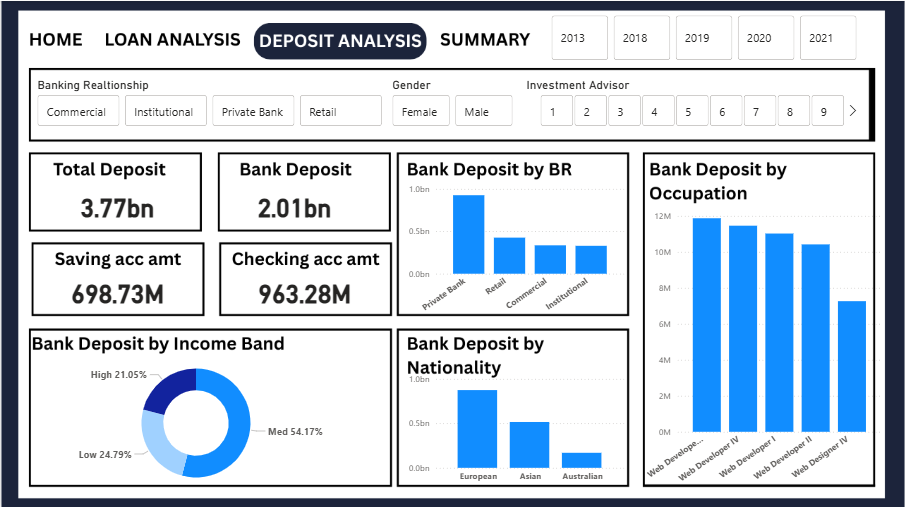

Layout of this report page (visuals, bound fields, positions):
{"tool":"powerbi","page":{"name":"Deposit Analysis","canvas":[1280,720],"ordinal":2},"visuals":[{"type":"advancedSlicerVisual","title":"Gender","fields":{"Values":["Banking_Clients.Year of joining"]},"box":[755.9,15.1,483.8,73.9],"z":0},{"type":"actionButton","box":[29.8,34,89.3,38.3],"z":1000},{"type":"actionButton","box":[133.2,34,211.2,38.3],"z":2000},{"type":"actionButton","box":[618,34,137.5,38.3],"z":3000},{"type":"card","fields":{"Values":["Sum(Banking_Clients.Bank Deposits)"]},"box":[344.4,262.2,143.1,55.3],"z":4000},{"type":"card","fields":{"Values":["Banking_Clients.Total deposit"]},"box":[93.5,262.2,143.1,55.3],"z":5000},{"type":"card","fields":{"Values":["Sum(Banking_Clients.Saving Accounts)"]},"box":[93.5,384.1,143.1,55.3],"z":6000},{"type":"card","fields":{"Values":["Sum(Banking_Clients.Checking Accounts)"]},"box":[358.6,384.1,143.1,55.3],"z":7000},{"type":"donutChart","fields":{"Category":["Banking_Clients.Income Band"],"Y":["Sum(Banking_Clients.Bank Deposits)"]},"box":[2.8,494.6,547.1,206.9],"z":8000},{"type":"columnChart","fields":{"Category":["Banking_Clients.BRId"],"Y":["Sum(Banking_Clients.Bank Deposits)"]},"box":[572.6,252.3,316.1,201.3],"z":9000},{"type":"columnChart","fields":{"Category":["Banking_Clients.Nationality"],"Y":["Sum(Banking_Clients.Bank Deposits)"]},"box":[572.6,521.6,316.1,170.1],"z":10000},{"type":"columnChart","fields":{"Category":["Banking_Clients.Occupation"],"Y":["Sum(Banking_Clients.Bank Deposits)"]},"box":[909.9,290.6,343,411],"z":11000},{"type":"advancedSlicerVisual","title":"Banking Realtionship","fields":{"Values":["Banking_Clients.BRId"]},"box":[46.8,109.1,498.9,73.7],"z":12000},{"type":"advancedSlicerVisual","title":"Gender","fields":{"Values":["Banking_Clients.GenderId"]},"box":[549.9,109.1,181.4,73.7],"z":13000},{"type":"advancedSlicerVisual","fields":{"Values":["Banking_Clients.IAId"]},"box":[739.8,109.1,483.3,73.7],"z":14000}]}

Visuals, with their boxes in screenshot pixels (x1, y1, x2, y2), scaled from the page's 1280x720 canvas onto the 905x507 screenshot:
"Gender" advancedSlicerVisual: left=534, top=11, right=877, bottom=63
actionButton: left=21, top=24, right=84, bottom=51
actionButton: left=94, top=24, right=244, bottom=51
actionButton: left=437, top=24, right=534, bottom=51
card - Sum(Banking_Clients.Bank Deposits): left=244, top=185, right=345, bottom=224
card - Banking_Clients.Total deposit: left=66, top=185, right=167, bottom=224
card - Sum(Banking_Clients.Saving Accounts): left=66, top=270, right=167, bottom=309
card - Sum(Banking_Clients.Checking Accounts): left=254, top=270, right=355, bottom=309
donutChart - Banking_Clients.Income Band x Sum(Banking_Clients.Bank Deposits): left=2, top=348, right=389, bottom=494
columnChart - Banking_Clients.BRId x Sum(Banking_Clients.Bank Deposits): left=405, top=178, right=628, bottom=319
columnChart - Banking_Clients.Nationality x Sum(Banking_Clients.Bank Deposits): left=405, top=367, right=628, bottom=487
columnChart - Banking_Clients.Occupation x Sum(Banking_Clients.Bank Deposits): left=643, top=205, right=886, bottom=494
"Banking Realtionship" advancedSlicerVisual: left=33, top=77, right=386, bottom=129
"Gender" advancedSlicerVisual: left=389, top=77, right=517, bottom=129
advancedSlicerVisual - Banking_Clients.IAId: left=523, top=77, right=865, bottom=129
